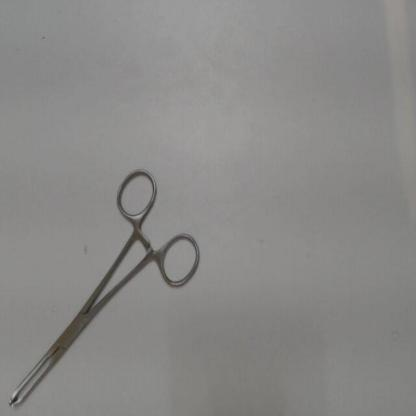Allis Tissue Forceps: (2, 158, 212, 413)
